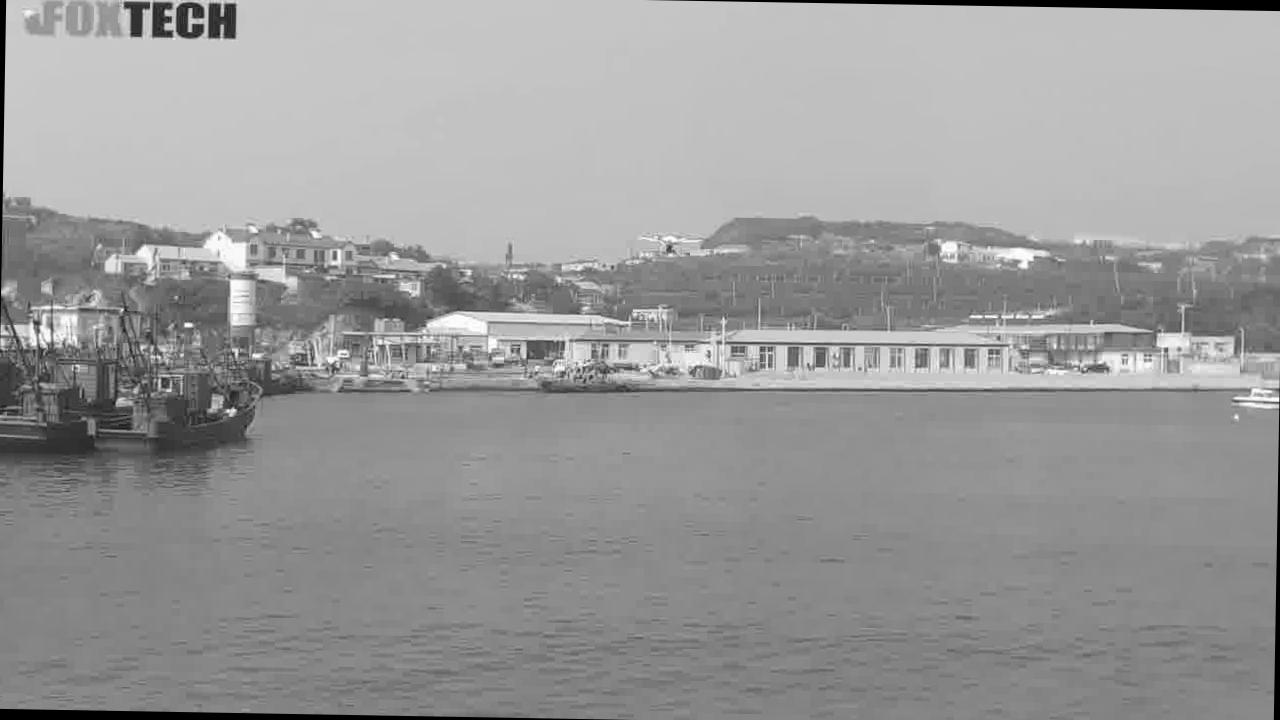drone: (634, 225, 708, 259)
